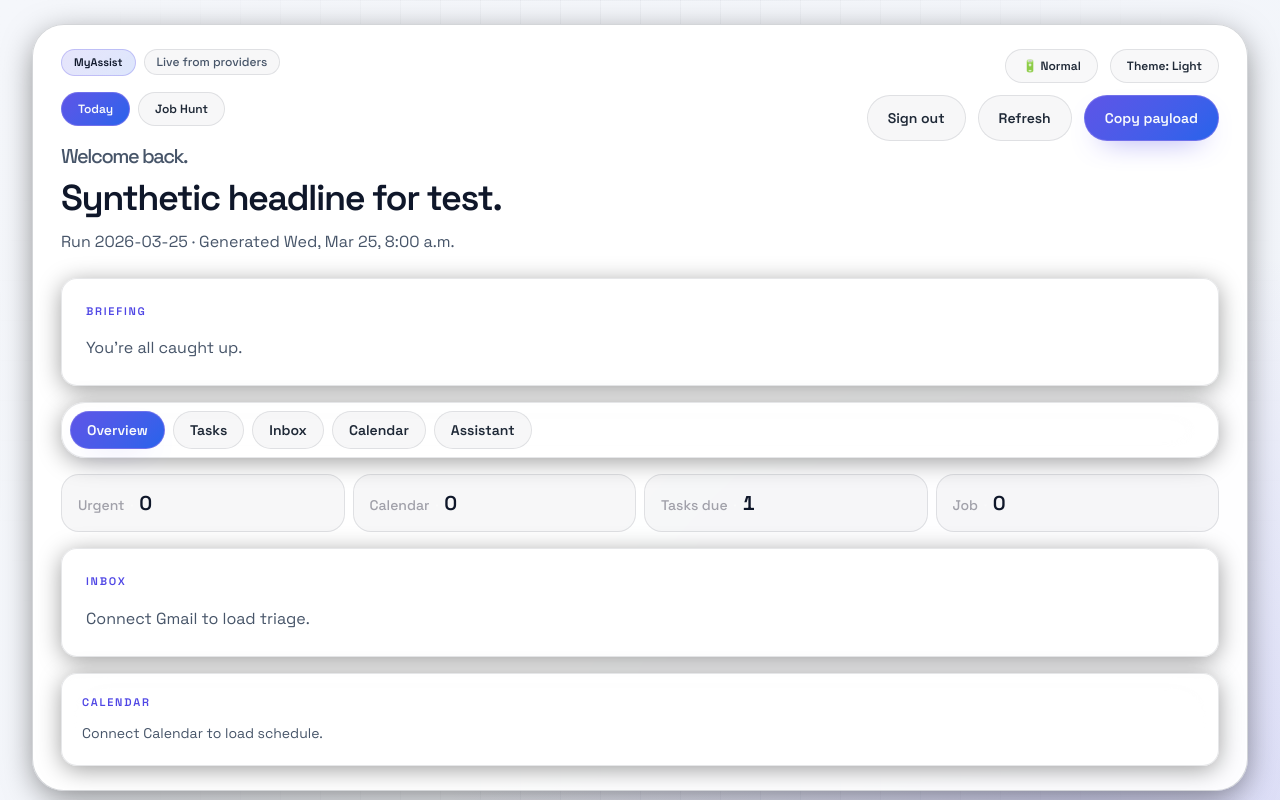
Scenario: Dashboard › Inbox empty state does not mention signal query
The width and height of the screenshot is (1280, 800).
Click the button "Inbox": (288, 430) [252,411,324,449]
(page scrolled)
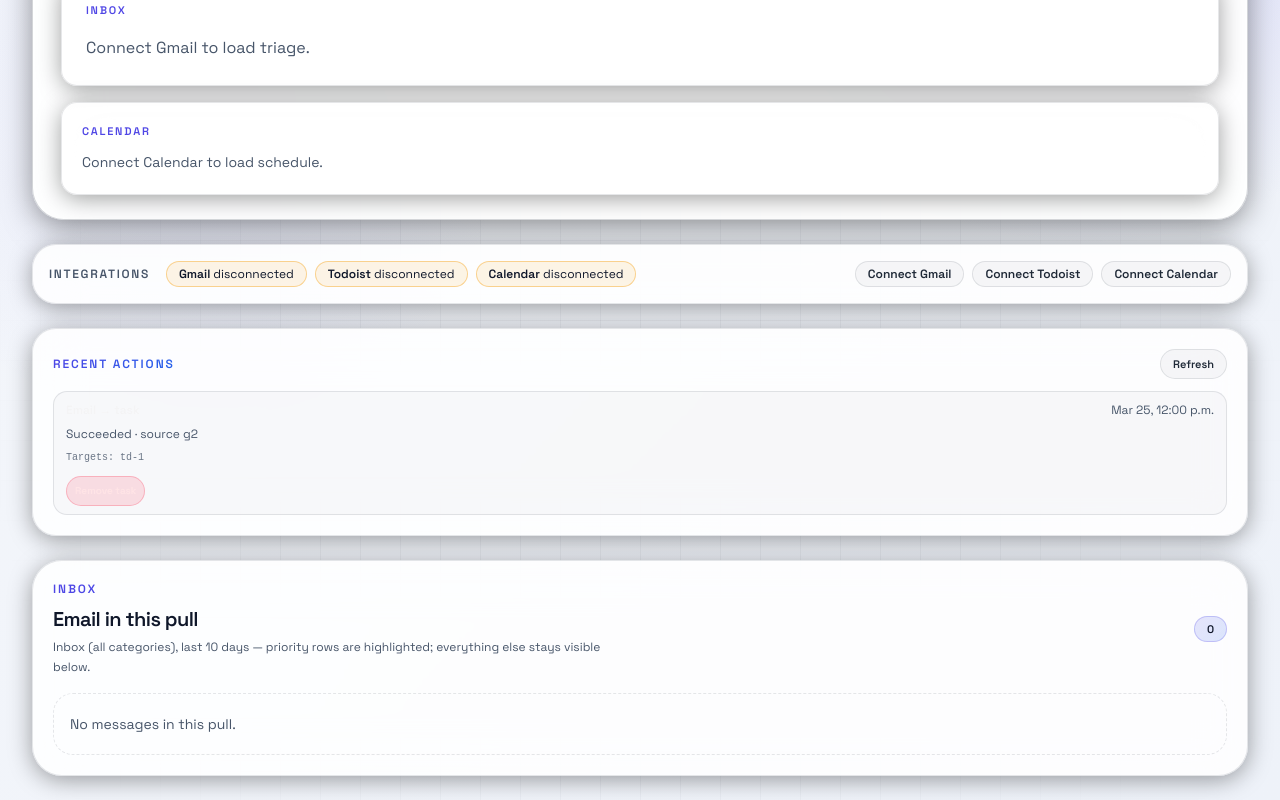
Expected: the text "No messages in this pull." is shown, [53,693,1227,755]
